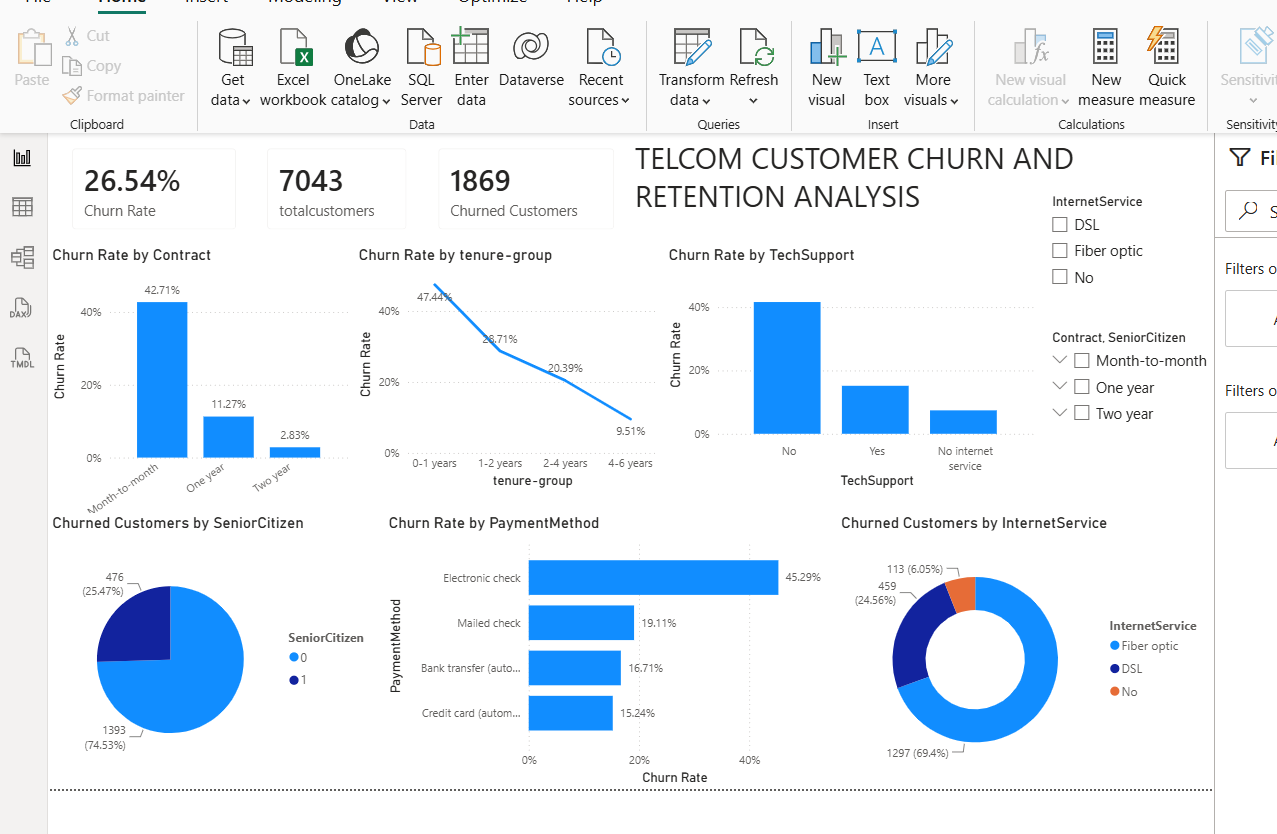

What the dashboard file says about the page in this screenshot:
{"tool":"powerbi","page":{"name":"Page 1","canvas":[1280,720],"ordinal":0},"visuals":[{"type":"cardVisual","fields":{"Data":["Cleaneddata.Churn Rate"]},"box":[9.6,0,214.1,123.5],"z":0},{"type":"cardVisual","fields":{"Data":["Cleaneddata.Churned Customers"]},"box":[411.7,0,227.8,123.5],"z":1000},{"type":"cardVisual","fields":{"Data":["Cleaneddata.TotalTelcoCustomers"]},"box":[223.7,0,188,123.5],"z":2000},{"type":"textbox","box":[639.5,0,640.8,123.5],"z":3000},{"type":"clusteredColumnChart","fields":{"Category":["Cleaneddata.Contract"],"Y":["Cleaneddata.Churn Rate"]},"box":[0,123.5,336.2,334.8],"z":4000},{"type":"lineChart","fields":{"Category":["Cleaneddata.tenure-group"],"Y":["Cleaneddata.Churn Rate"]},"box":[336.2,123.5,340.3,271.7],"z":5000},{"type":"donutChart","fields":{"Category":["Cleaneddata.InternetService"],"Y":["Cleaneddata.Churned Customers"]},"box":[865.9,417.2,414.4,303.3],"z":6000},{"type":"clusteredBarChart","fields":{"Category":["Cleaneddata.PaymentMethod"],"Y":["Cleaneddata.Churn Rate"]},"box":[369.1,417.2,496.7,303.3],"z":7000},{"type":"pieChart","fields":{"Category":["Cleaneddata.SeniorCitizen"],"Y":["Cleaneddata.Churned Customers"]},"box":[0,417.2,369.1,303.3],"z":8000},{"type":"slicer","fields":{"Values":["Cleaneddata.Contract","Cleaneddata.SeniorCitizen"]},"box":[1089.5,211.3,190.7,183.9],"z":10000},{"type":"slicer","fields":{"Values":["Cleaneddata.InternetService"]},"box":[1089.5,61.7,190.7,149.6],"z":11000},{"type":"clusteredColumnChart","fields":{"Category":["Cleaneddata.TechSupport"],"Y":["Cleaneddata.Tech Support Churn Rate"]},"box":[676,123,414,272],"z":11001}]}

Visuals, with their boxes on the page's 1280x720 design canvas (x1, y1, x2, y2). These are canvas units, not pixel positions in the 1277x834 screenshot, which may show the page scaled, cropped or inside an application window:
cardVisual - Cleaneddata.Churn Rate: bbox(10, 0, 224, 124)
cardVisual - Cleaneddata.Churned Customers: bbox(412, 0, 640, 124)
cardVisual - Cleaneddata.TotalTelcoCustomers: bbox(224, 0, 412, 124)
textbox: bbox(640, 0, 1280, 124)
clusteredColumnChart - Cleaneddata.Contract x Cleaneddata.Churn Rate: bbox(0, 124, 336, 458)
lineChart - Cleaneddata.tenure-group x Cleaneddata.Churn Rate: bbox(336, 124, 676, 395)
donutChart - Cleaneddata.InternetService x Cleaneddata.Churned Customers: bbox(866, 417, 1280, 720)
clusteredBarChart - Cleaneddata.PaymentMethod x Cleaneddata.Churn Rate: bbox(369, 417, 866, 720)
pieChart - Cleaneddata.SeniorCitizen x Cleaneddata.Churned Customers: bbox(0, 417, 369, 720)
slicer - Cleaneddata.Contract x Cleaneddata.SeniorCitizen: bbox(1090, 211, 1280, 395)
slicer - Cleaneddata.InternetService: bbox(1090, 62, 1280, 211)
clusteredColumnChart - Cleaneddata.TechSupport x Cleaneddata.Tech Support Churn Rate: bbox(676, 123, 1090, 395)
